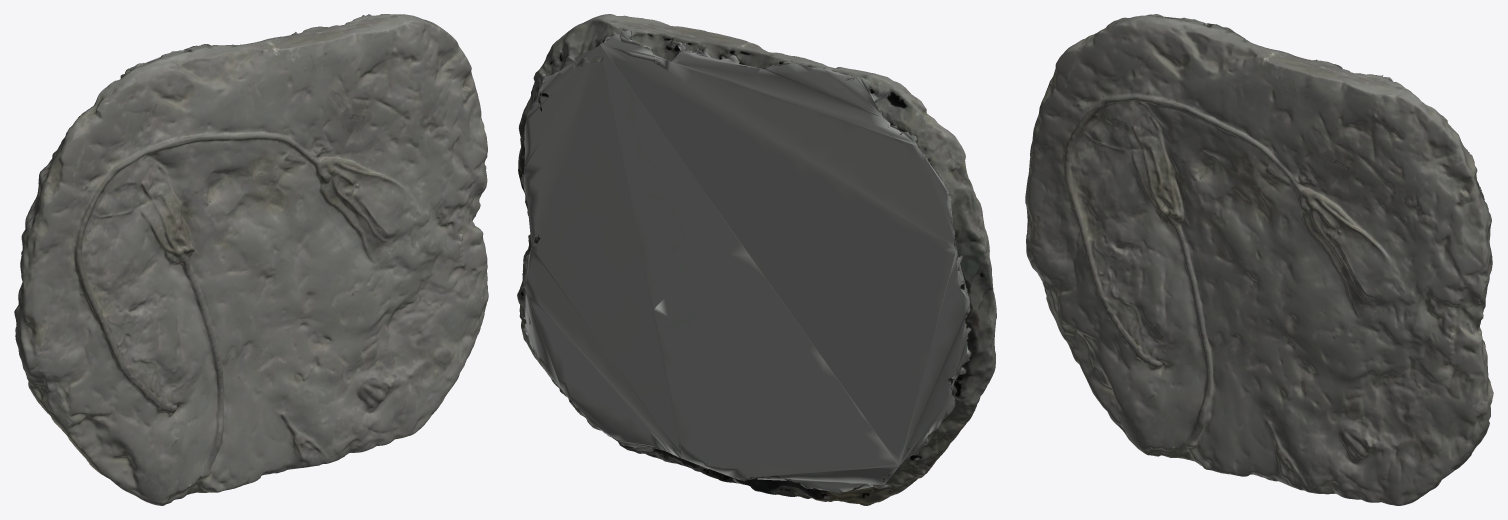
3 renders of one model, left to right at view 1: azimuth 30°, elevation 25°; view 2: azimuth 150°, elevation 25°; view 3: azimuth 330°, elevation 25°, orthographic. The views are drawn at different scales.
Visible parts, largest first — view 1: Decadocrinus_coreyi_-Worthen-unwrapped-webmulti; view 2: Decadocrinus_coreyi_-Worthen-unwrapped-webmulti; view 3: Decadocrinus_coreyi_-Worthen-unwrapped-webmulti.
Part boxes in pixels (x1=…): Decadocrinus_coreyi_-Worthen-unwrapped-webmulti: x1=14, y1=14, x2=488, y2=505; Decadocrinus_coreyi_-Worthen-unwrapped-webmulti: x1=517, y1=14, x2=996, y2=505; Decadocrinus_coreyi_-Worthen-unwrapped-webmulti: x1=1025, y1=14, x2=1493, y2=505.
Bounding box in the file's own units: 11540 × 10301 × 1376.
1 material, 1 textured.
